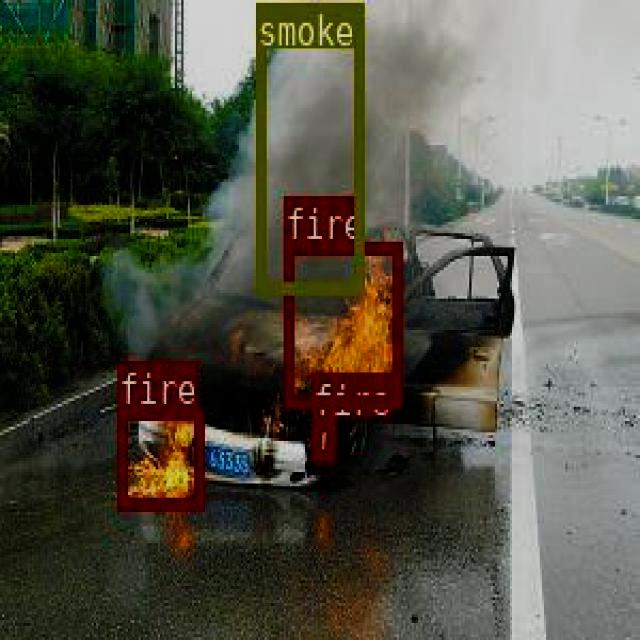fire: (282, 242, 400, 404), (116, 406, 202, 509), (310, 417, 333, 460)
smoke: (255, 1, 361, 290)
